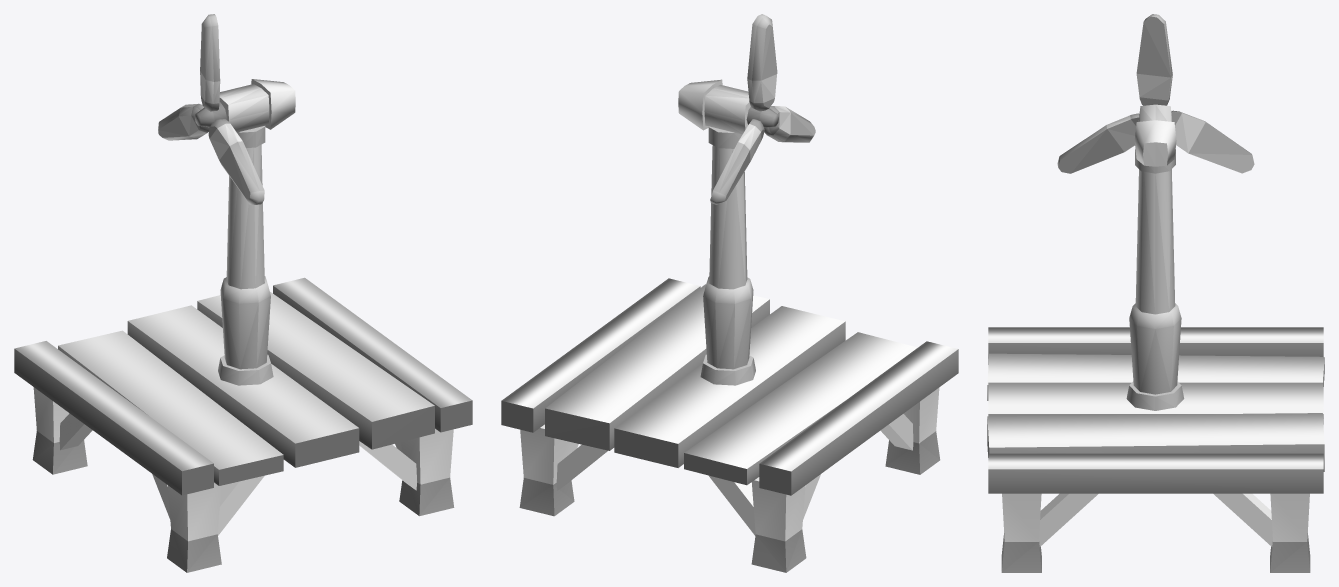
The model's file is tidal_turbine.glb.
3 views of the same model, side by side, from view 1: azimuth 30°, elevation 25°; view 2: azimuth 150°, elevation 25°; view 3: azimuth 270°, elevation 25° (orthographic).
Parts seen in each view (by area): view 1: Body; view 2: Body; view 3: Body.
Part boxes in pixels (bbox=[...]): Body: bbox=[14, 14, 472, 572]; Body: bbox=[501, 14, 958, 572]; Body: bbox=[987, 14, 1324, 572].
Bounding box in the file's own units: 9.95 × 15.59 × 10.
2 materials, 1 textured.
